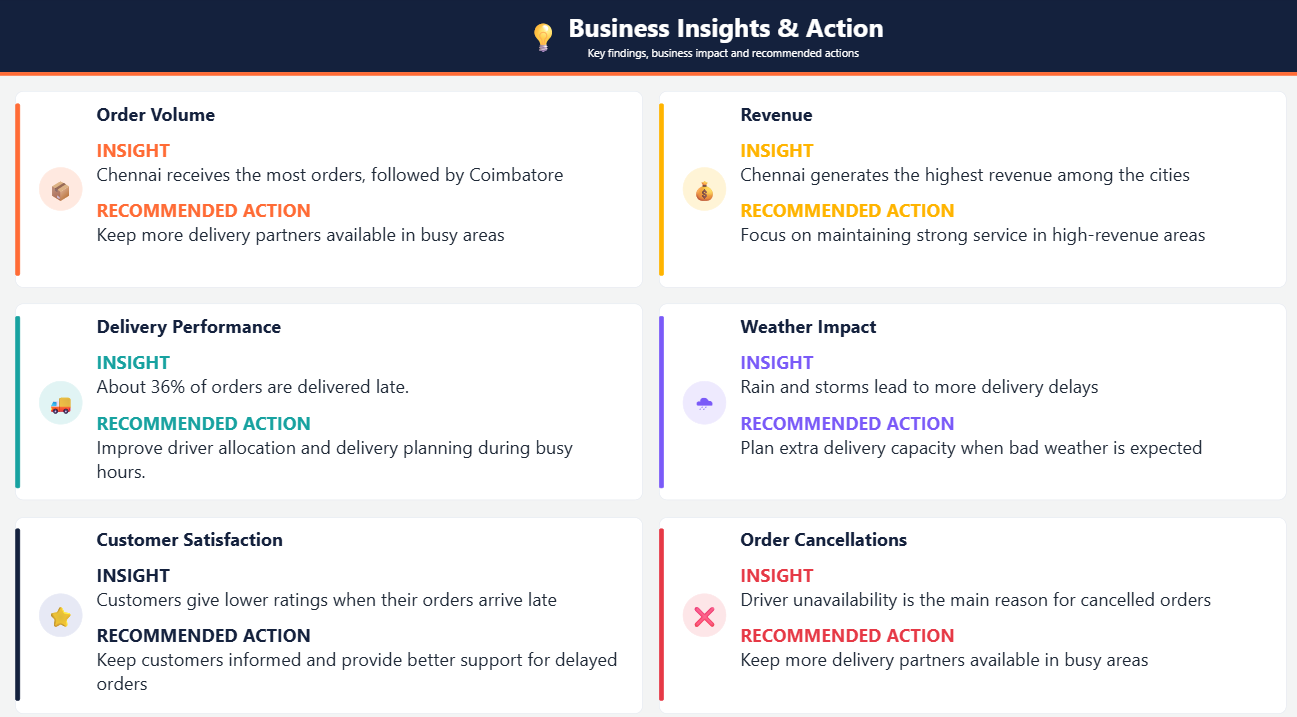

What the dashboard file says about the page in this screenshot:
{"tool":"powerbi","page":{"name":"Business Insights & Action","canvas":[1920,1080],"ordinal":5},"visuals":[{"type":"textbox","box":[0,0,1920,112],"z":0},{"type":"textbox","box":[0,112,1920,5],"z":1000},{"type":"textbox","box":[24,140,924,289.3],"z":2000},{"type":"textbox","box":[972,140,924,289.3],"z":3000},{"type":"textbox","box":[24,453.3,924,289.3],"z":4000},{"type":"textbox","box":[972,453.3,924,289.3],"z":5000},{"type":"textbox","box":[24,766.7,924,289.3],"z":6000},{"type":"textbox","box":[972,766.7,924,289.3],"z":7000},{"type":"textbox","box":[24,158,7,253.3],"z":8000},{"type":"textbox","box":[972,158,7,253.3],"z":9000},{"type":"textbox","box":[24,471.3,7,253.3],"z":10000},{"type":"textbox","box":[972,471.3,7,253.3],"z":11000},{"type":"textbox","box":[24,784.7,7,253.3],"z":12000},{"type":"textbox","box":[972,784.7,7,253.3],"z":13000},{"type":"textbox","box":[58,252.7,64,64],"z":14000},{"type":"textbox","box":[1006,252.7,64,64],"z":15000},{"type":"textbox","box":[58,566,64,64],"z":16000},{"type":"textbox","box":[1006,566,64,64],"z":17000},{"type":"textbox","box":[58,879.3,64,64],"z":18000},{"type":"textbox","box":[1006,879.3,64,64],"z":19000},{"type":"textbox","box":[144,154,774,261.3],"z":20000},{"type":"textbox","box":[1092,154,774,261.3],"z":21000},{"type":"textbox","box":[144,467.3,774,261.3],"z":22000},{"type":"textbox","box":[1092,467.3,774,261.3],"z":23000},{"type":"textbox","box":[144,780.7,774,261.3],"z":24000},{"type":"textbox","box":[1092,780.7,774,261.3],"z":25000},{"type":"textbox","box":[767.5,20.2,68,68],"z":26000},{"type":"textbox","box":[590.8,71.8,1000,34],"z":27000},{"type":"textbox","box":[570.6,20.2,1000,52],"z":28000}]}

Visuals, with their boxes in screenshot pixels (x1, y1, x2, y2), scaled from the page's 1920x1080 canvas onto the 1297x717 screenshot:
textbox: x1=0 y1=0 x2=1296 y2=74
textbox: x1=0 y1=74 x2=1296 y2=78
textbox: x1=16 y1=93 x2=640 y2=285
textbox: x1=657 y1=93 x2=1281 y2=285
textbox: x1=16 y1=301 x2=640 y2=493
textbox: x1=657 y1=301 x2=1281 y2=493
textbox: x1=16 y1=509 x2=640 y2=701
textbox: x1=657 y1=509 x2=1281 y2=701
textbox: x1=16 y1=105 x2=21 y2=273
textbox: x1=657 y1=105 x2=661 y2=273
textbox: x1=16 y1=313 x2=21 y2=481
textbox: x1=657 y1=313 x2=661 y2=481
textbox: x1=16 y1=521 x2=21 y2=689
textbox: x1=657 y1=521 x2=661 y2=689
textbox: x1=39 y1=168 x2=82 y2=210
textbox: x1=680 y1=168 x2=723 y2=210
textbox: x1=39 y1=376 x2=82 y2=418
textbox: x1=680 y1=376 x2=723 y2=418
textbox: x1=39 y1=584 x2=82 y2=626
textbox: x1=680 y1=584 x2=723 y2=626
textbox: x1=97 y1=102 x2=620 y2=276
textbox: x1=738 y1=102 x2=1261 y2=276
textbox: x1=97 y1=310 x2=620 y2=484
textbox: x1=738 y1=310 x2=1261 y2=484
textbox: x1=97 y1=518 x2=620 y2=692
textbox: x1=738 y1=518 x2=1261 y2=692
textbox: x1=518 y1=13 x2=564 y2=59
textbox: x1=399 y1=48 x2=1075 y2=70
textbox: x1=385 y1=13 x2=1061 y2=48
